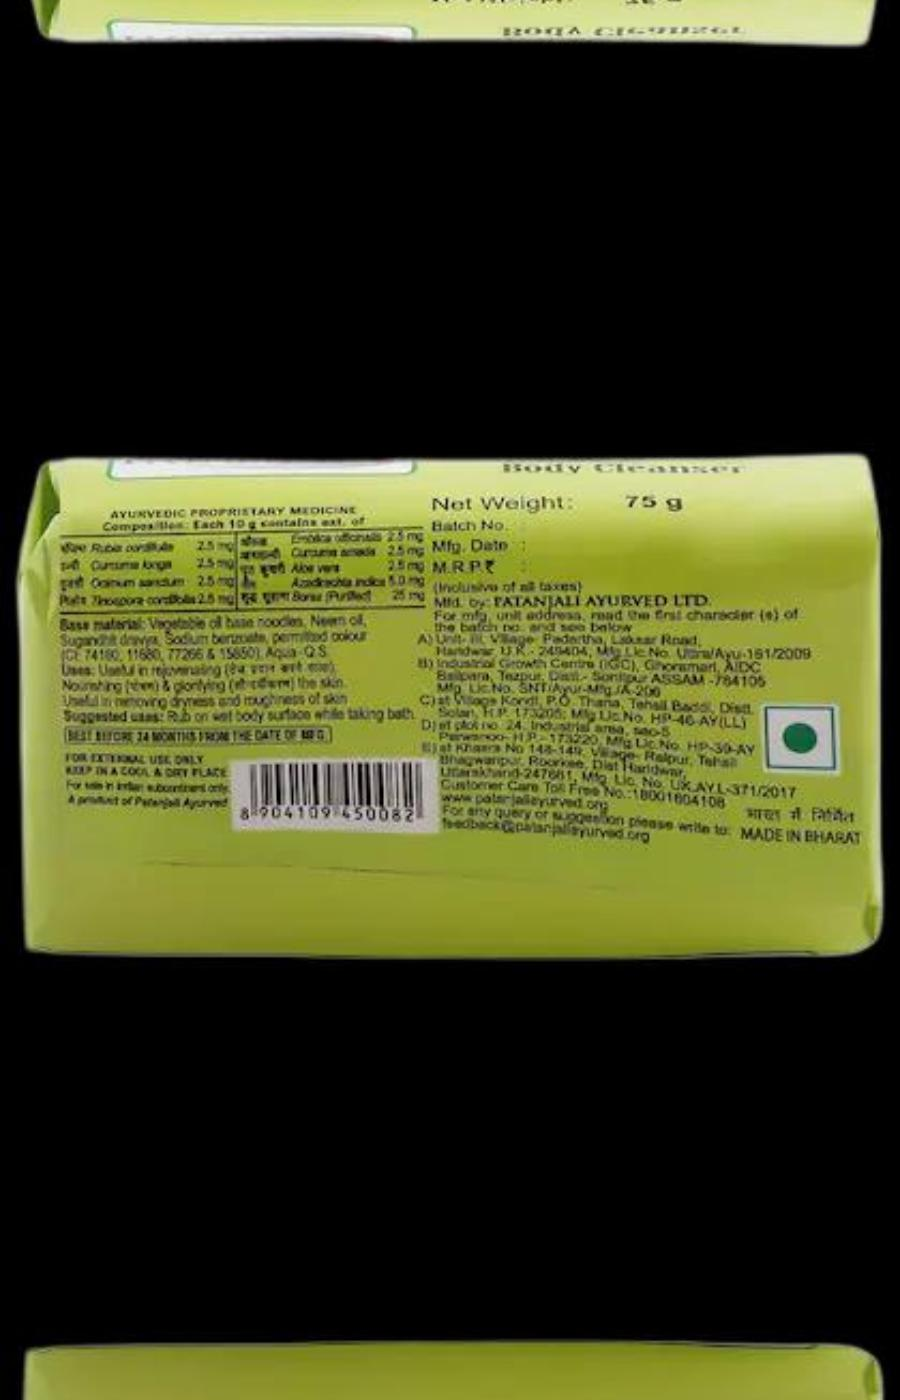Patanjali Neem Kanti Body Cleanser 75 g: (13, 445, 885, 965)
